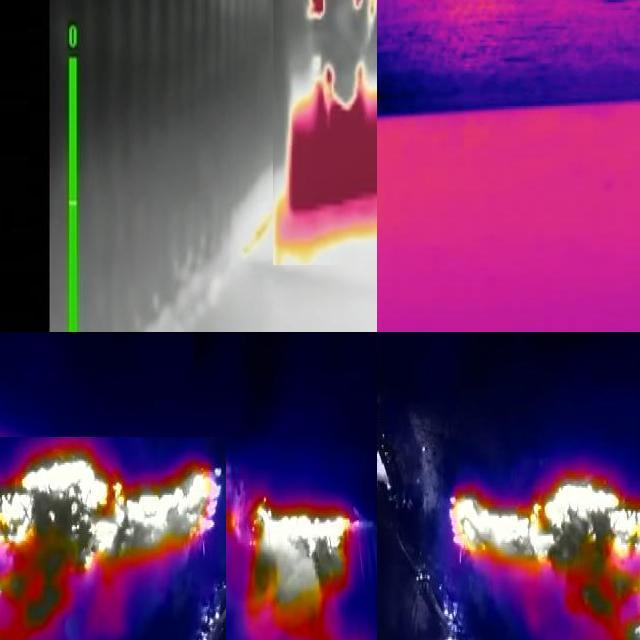fire: (1, 437, 226, 640), (448, 476, 640, 640), (273, 1, 378, 265), (247, 490, 370, 640)
